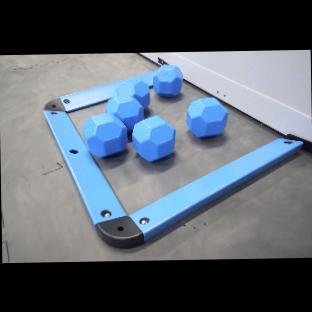V5_BLUE: (82, 77, 175, 161), (186, 97, 227, 137), (151, 64, 182, 97)
